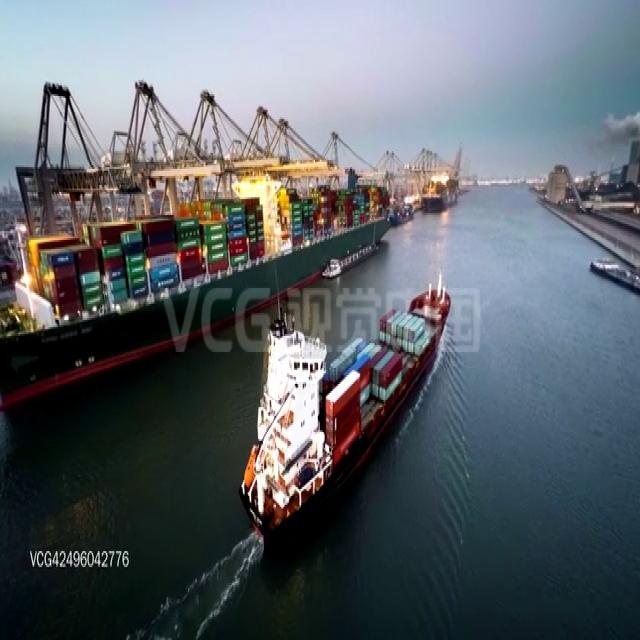cargoship: (16, 134, 449, 364), (236, 301, 472, 529)
